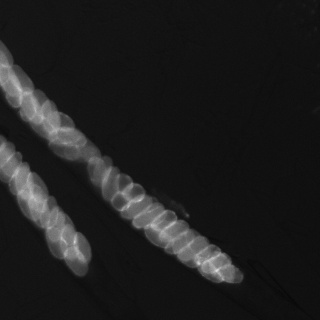embryo: (120, 193, 156, 220), (176, 234, 209, 263), (131, 201, 165, 229), (165, 228, 198, 254), (29, 115, 58, 142), (64, 246, 89, 276), (101, 164, 120, 203), (74, 136, 100, 164), (28, 194, 50, 227), (8, 65, 33, 94), (60, 224, 80, 260), (23, 183, 47, 213), (158, 220, 188, 244), (20, 93, 44, 123), (87, 156, 108, 189), (47, 139, 80, 160), (50, 129, 86, 148), (17, 189, 37, 221), (4, 76, 24, 108), (46, 231, 68, 260), (28, 172, 49, 202), (9, 165, 30, 195), (193, 244, 221, 266), (49, 206, 66, 242), (16, 162, 32, 200), (74, 232, 92, 265), (40, 195, 58, 228), (42, 100, 60, 133), (203, 253, 232, 273), (20, 86, 36, 122), (2, 151, 23, 178), (47, 112, 75, 132), (94, 156, 112, 187), (215, 264, 244, 283), (198, 262, 224, 283), (58, 212, 75, 244), (31, 90, 51, 117), (152, 210, 177, 230), (144, 228, 166, 250), (123, 183, 145, 198), (109, 193, 127, 210), (115, 173, 133, 190)
